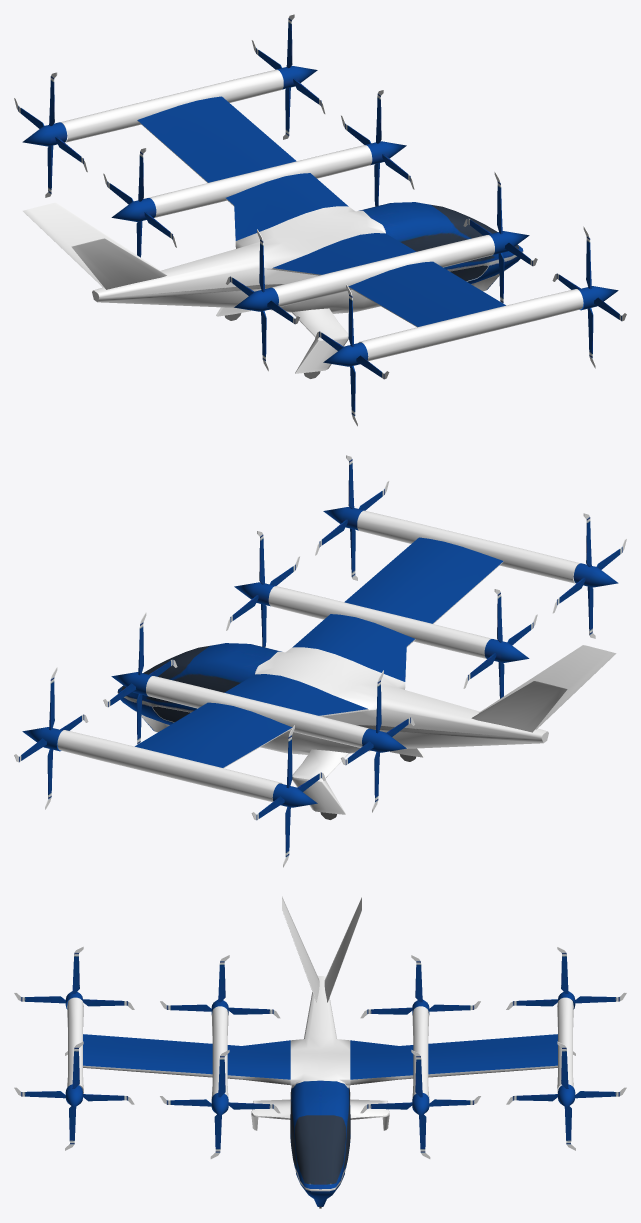
Rendered from amvlab-evtol.glb.
The picture shows the model from 3 angles, top to bottom: view 1: azimuth 30°, elevation 25°; view 2: azimuth 150°, elevation 25°; view 3: azimuth 270°, elevation 25°; orthographic projection. The views are drawn at different scales.
Visible parts, largest first — view 1: eVTOL; view 2: eVTOL; view 3: eVTOL.
Boxes of the visible parts, x1=… form: eVTOL: x1=14, y1=14, x2=626, y2=426; eVTOL: x1=14, y1=455, x2=626, y2=867; eVTOL: x1=14, y1=896, x2=626, y2=1208.
Bounding box in the file's own units: 1.02 × 0.392 × 1.42.
Materials: 1 (1 with a texture image).
